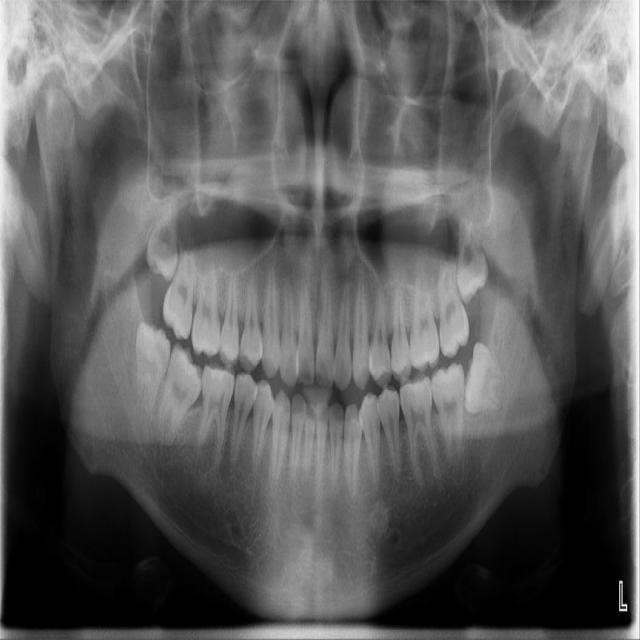3M ESPE Implant: (145, 180, 182, 281)
73: (626, 620, 640, 625)
BioHorizons Implant: (439, 254, 470, 357)
BioLife Implant: (456, 204, 490, 305)
Biomet 3i Implant: (461, 342, 512, 417)
Blue Sky Bio Implant: (430, 361, 469, 474)
Caries: (161, 233, 200, 341)
Implant: (151, 342, 211, 449)
Keystone Dental Implant: (135, 321, 171, 422)
